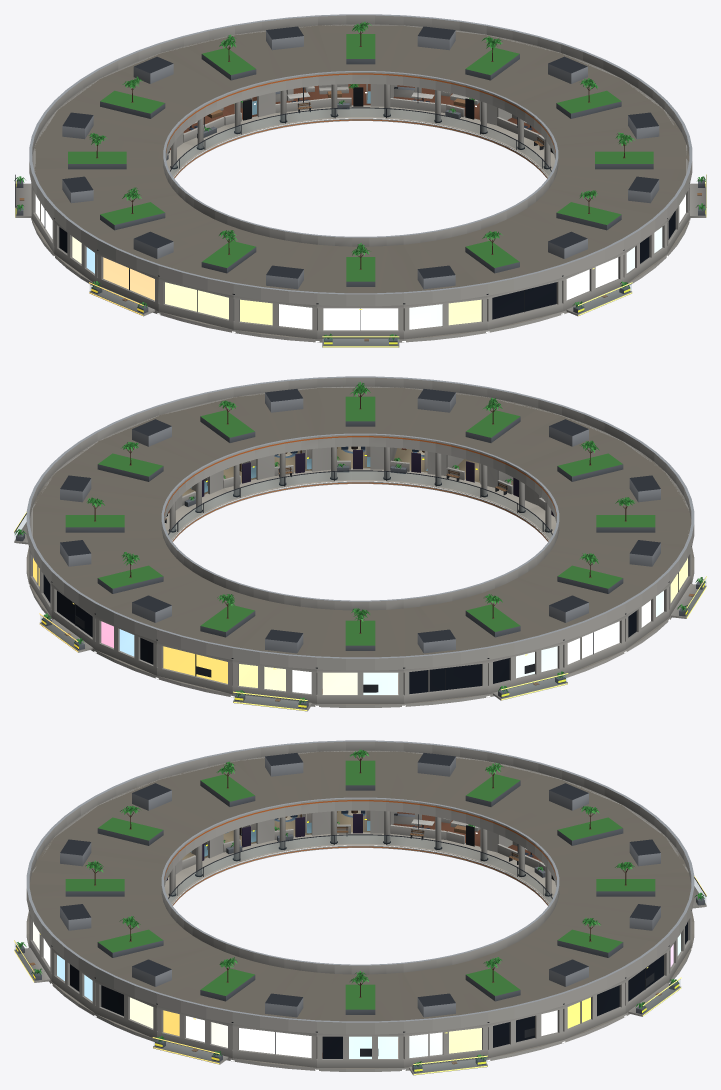
File: dome_floor5.glb
The picture shows the model from 3 angles, top to bottom: view 1: azimuth 30°, elevation 25°; view 2: azimuth 150°, elevation 25°; view 3: azimuth 270°, elevation 25°; orthographic projection.
Visible parts, largest first — view 1: Roof_Struct, Struct_5, Roof_Garden, Shell_5, Unit_5_4, Unit_5_2, Unit_5_6; view 2: Roof_Struct, Struct_5, Roof_Garden, Shell_5, Unit_5_19, Unit_5_20; view 3: Roof_Struct, Struct_5, Roof_Garden, Shell_5, Unit_5_10, Unit_5_12.
Boxes of the visible parts, <box> form: Roof_Struct: <box>29,14,692,306</box>; Struct_5: <box>15,24,706,347</box>; Roof_Garden: <box>62,21,659,289</box>; Shell_5: <box>14,84,706,347</box>; Unit_5_4: <box>275,84,397,105</box>; Unit_5_2: <box>393,85,511,120</box>; Unit_5_6: <box>183,96,257,132</box>; Roof_Struct: <box>26,376,694,670</box>; Struct_5: <box>14,386,706,711</box>; Roof_Garden: <box>60,382,660,653</box>; Shell_5: <box>14,446,706,710</box>; Unit_5_19: <box>393,448,463,472</box>; Unit_5_20: <box>337,446,397,468</box>; Roof_Struct: <box>26,740,694,1034</box>; Struct_5: <box>14,750,706,1075</box>; Roof_Garden: <box>60,749,660,1017</box>; Shell_5: <box>14,810,706,1074</box>; Unit_5_10: <box>393,812,512,847</box>; Unit_5_12: <box>337,810,397,832</box>.
Bounding box in the file's own units: 70.51 × 7.86 × 70.51.
